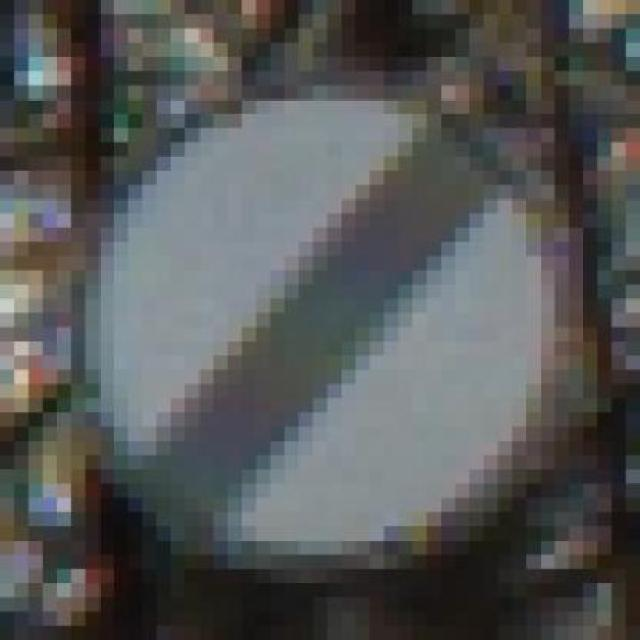End of all speed and passing limits: (42, 85, 598, 598)
